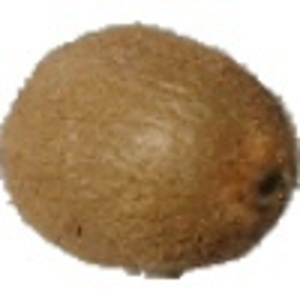kiwi: (1, 21, 300, 281)
